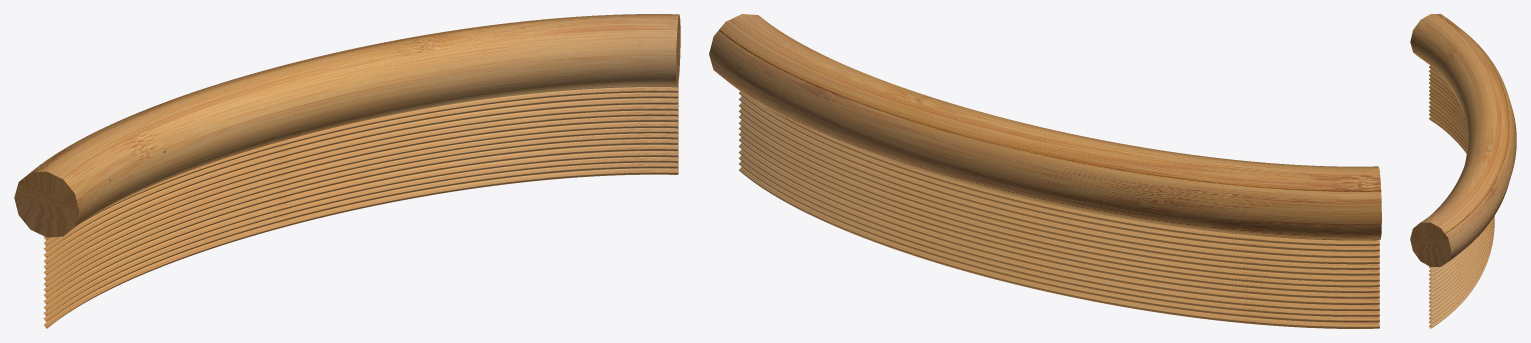
The model's file is WoodBackground.fbx.
The picture shows the model from 3 angles, left to right: view 1: azimuth 30°, elevation 25°; view 2: azimuth 150°, elevation 25°; view 3: azimuth 270°, elevation 25°; orthographic projection. The views are drawn at different scales.
Parts seen in each view (by area): view 1: BezierCurve, BezierCurve.012, BezierCurve.004, BezierCurve.013, BezierCurve.008, BezierCurve.009, BezierCurve.005, BezierCurve.011, BezierCurve.003, BezierCurve.006, BezierCurve.014, BezierCurve.007 (+4 smaller); view 2: BezierCurve, BezierCurve.012, BezierCurve.013, BezierCurve.004, BezierCurve.005, BezierCurve.008, BezierCurve.009, BezierCurve.011, BezierCurve.006, BezierCurve.014, BezierCurve.003, BezierCurve.007 (+4 smaller); view 3: BezierCurve, BezierCurve.012, BezierCurve.013, BezierCurve.009, BezierCurve.011, BezierCurve.010, BezierCurve.014, BezierCurve.005, BezierCurve.015, BezierCurve.016, BezierCurve.006, BezierCurve.007 (+3 smaller).
Boxes of the visible parts, x1,y1,x2,y2 form: BezierCurve: (14, 14, 680, 237); BezierCurve.012: (44, 168, 678, 328); BezierCurve.004: (44, 98, 678, 258); BezierCurve.013: (44, 144, 678, 304); BezierCurve.008: (44, 104, 678, 264); BezierCurve.009: (43, 151, 678, 311); BezierCurve.005: (44, 122, 678, 281); BezierCurve.011: (44, 162, 678, 322); BezierCurve.003: (44, 92, 678, 252); BezierCurve.006: (44, 116, 678, 275); BezierCurve.014: (44, 139, 678, 298); BezierCurve.007: (44, 110, 678, 270); BezierCurve: (709, 14, 1381, 239); BezierCurve.012: (739, 167, 1379, 328); BezierCurve.013: (739, 143, 1379, 304); BezierCurve.004: (739, 96, 1379, 257); BezierCurve.005: (739, 120, 1379, 281); BezierCurve.008: (739, 102, 1379, 264); BezierCurve.009: (739, 149, 1379, 310); BezierCurve.011: (739, 161, 1379, 322); BezierCurve.006: (739, 114, 1379, 275); BezierCurve.014: (739, 137, 1379, 298); BezierCurve.003: (739, 91, 1379, 251); BezierCurve.007: (739, 108, 1379, 269); BezierCurve: (1410, 14, 1516, 266); BezierCurve.012: (1429, 116, 1494, 328); BezierCurve.013: (1429, 100, 1494, 312); BezierCurve.009: (1429, 104, 1494, 316); BezierCurve.011: (1429, 112, 1494, 324); BezierCurve.010: (1429, 108, 1494, 320); BezierCurve.014: (1429, 96, 1493, 308); BezierCurve.005: (1429, 85, 1489, 297); BezierCurve.015: (1429, 92, 1492, 304); BezierCurve.016: (1429, 89, 1491, 300); BezierCurve.006: (1429, 81, 1487, 292); BezierCurve.007: (1429, 77, 1484, 289).
Bounding box in the file's own units: 1268 × 286 × 260.
